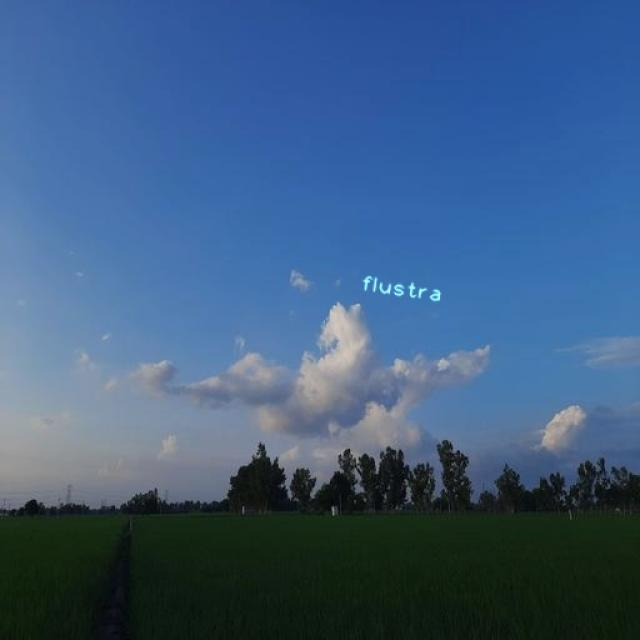watermark: (353, 274, 455, 305)
